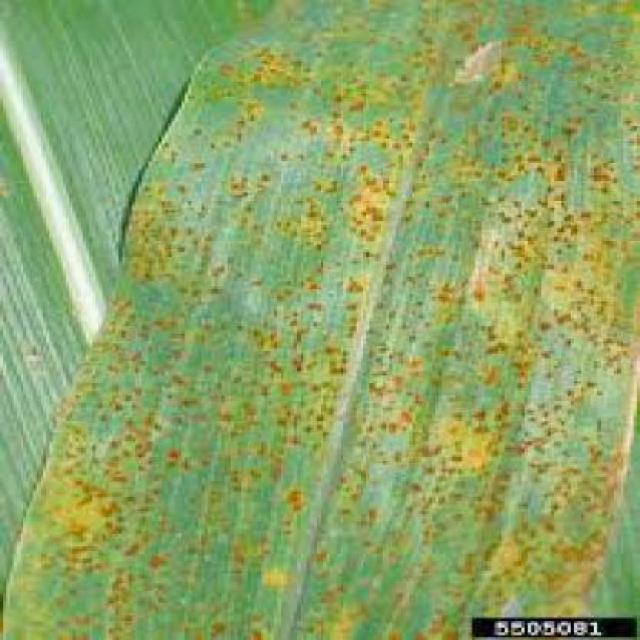Corn_Rust: (51, 0, 640, 608)
